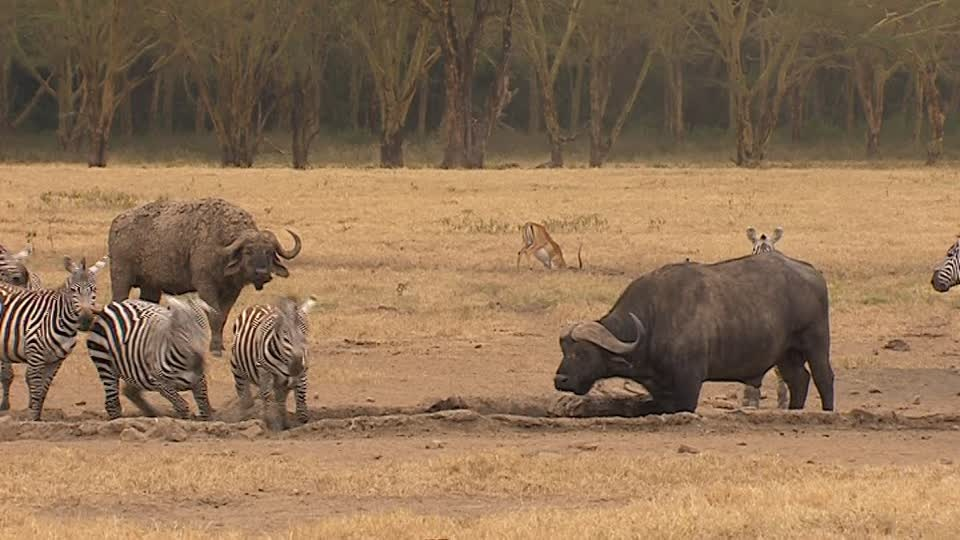buffalo: (548, 250, 840, 419), (106, 194, 303, 351)
zebra: (6, 257, 108, 423), (83, 296, 217, 418), (226, 298, 313, 428)
